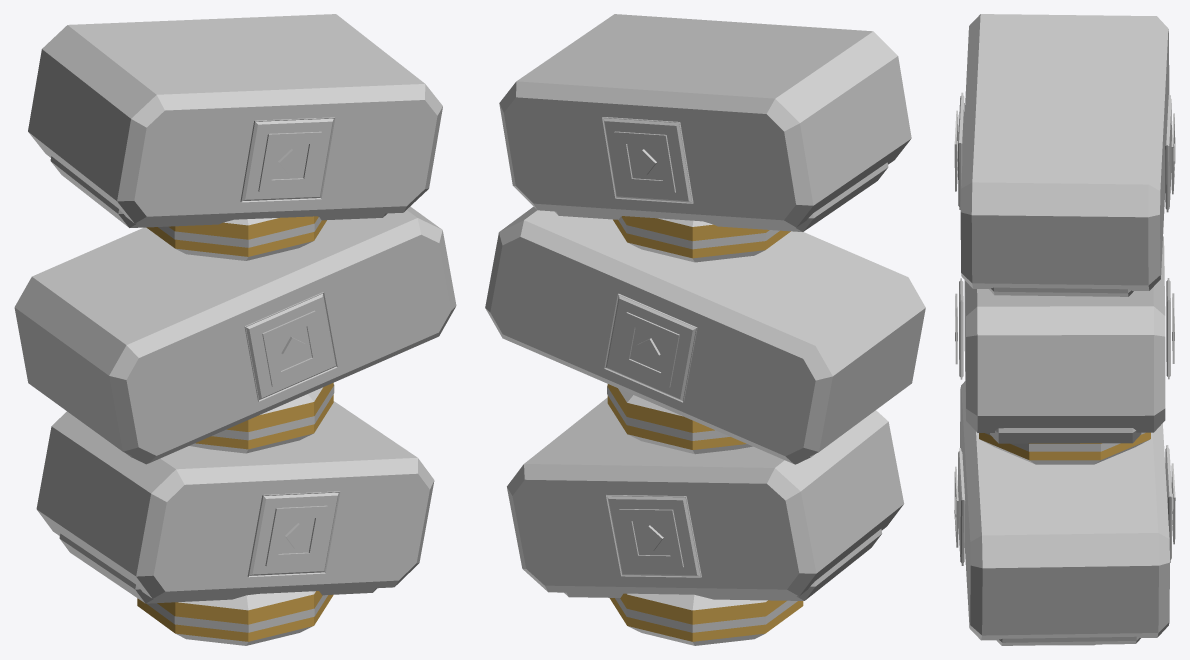
Rendered from wand_motion_12.obj.
The picture shows the model from 3 angles, left to right: view 1: azimuth 30°, elevation 25°; view 2: azimuth 150°, elevation 25°; view 3: azimuth 270°, elevation 25°; orthographic projection. The views are drawn at different scales.
Parts seen in each view (by area): view 1: chamfered_seal_tablet_2, chamfered_seal_tablet_1, chamfered_seal_tablet_0, tablet_spacer_0, inset_rune_socket_5, inset_rune_socket_3, inset_rune_socket_1, tablet_spacer_2, tablet_spacer_1, seal_shadow_base_0, seal_shadow_base_2, tablet_spacer_dark_seam_0 (+2 smaller); view 2: chamfered_seal_tablet_2, chamfered_seal_tablet_1, chamfered_seal_tablet_0, tablet_spacer_0, inset_rune_socket_0, inset_rune_socket_2, inset_rune_socket_4, tablet_spacer_2, tablet_spacer_1, seal_shadow_base_2, seal_shadow_base_0, tablet_spacer_dark_seam_0 (+2 smaller); view 3: chamfered_seal_tablet_2, chamfered_seal_tablet_0, chamfered_seal_tablet_1, seal_shadow_base_1, tablet_spacer_1, seal_shadow_base_2, seal_shadow_base_0, tablet_spacer_dark_seam_1, inset_rune_socket_1, inset_rune_socket_4, inset_rune_socket_5, inset_rune_socket_0 (+2 smaller).
Boxes of the visible parts, x1,y1,x2,y2 form: chamfered_seal_tablet_2: [28, 14, 442, 223]; chamfered_seal_tablet_1: [14, 206, 456, 463]; chamfered_seal_tablet_0: [36, 401, 434, 598]; tablet_spacer_0: [137, 591, 333, 645]; inset_rune_socket_5: [240, 117, 335, 202]; inset_rune_socket_3: [244, 292, 337, 401]; inset_rune_socket_1: [247, 491, 340, 577]; tablet_spacer_2: [146, 216, 326, 260]; tablet_spacer_1: [189, 383, 333, 453]; seal_shadow_base_0: [59, 533, 376, 603]; seal_shadow_base_2: [50, 156, 387, 227]; tablet_spacer_dark_seam_0: [147, 595, 327, 632]; chamfered_seal_tablet_2: [499, 14, 911, 227]; chamfered_seal_tablet_1: [485, 206, 925, 463]; chamfered_seal_tablet_0: [507, 397, 904, 596]; tablet_spacer_0: [609, 593, 803, 645]; inset_rune_socket_0: [606, 495, 701, 577]; inset_rune_socket_2: [604, 293, 697, 402]; inset_rune_socket_4: [602, 117, 693, 203]; tablet_spacer_2: [613, 216, 790, 262]; tablet_spacer_1: [607, 384, 752, 454]; seal_shadow_base_2: [554, 162, 888, 231]; seal_shadow_base_0: [564, 529, 882, 600]; tablet_spacer_dark_seam_0: [615, 598, 797, 632]; chamfered_seal_tablet_2: [960, 14, 1169, 290]; chamfered_seal_tablet_0: [960, 381, 1169, 640]; chamfered_seal_tablet_1: [964, 236, 1165, 432]; seal_shadow_base_1: [990, 428, 1141, 443]; tablet_spacer_1: [979, 432, 1150, 464]; seal_shadow_base_2: [989, 287, 1133, 296]; seal_shadow_base_0: [996, 636, 1140, 645]; tablet_spacer_dark_seam_1: [985, 432, 1145, 451]; inset_rune_socket_1: [958, 448, 965, 565]; inset_rune_socket_4: [1165, 95, 1171, 212]; inset_rune_socket_5: [958, 92, 964, 209]; inset_rune_socket_0: [1165, 445, 1172, 562].
Bounding box in the file's own units: 0.1957 × 0.3109 × 0.1143.
